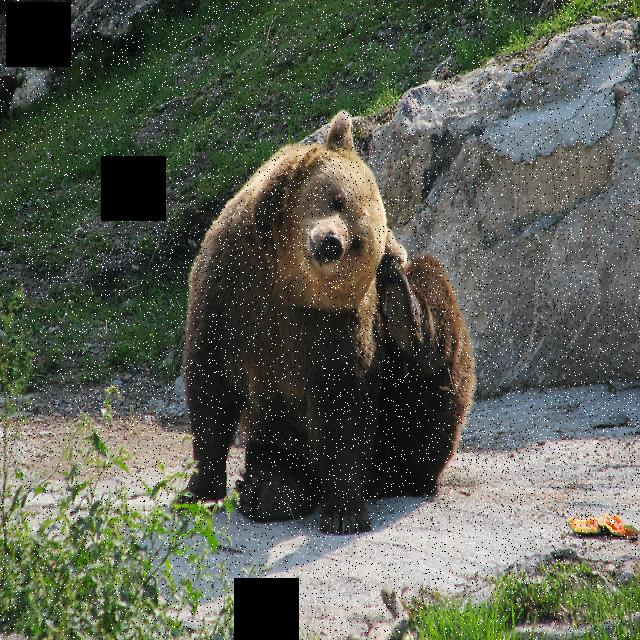Bear: (182, 110, 477, 534)
